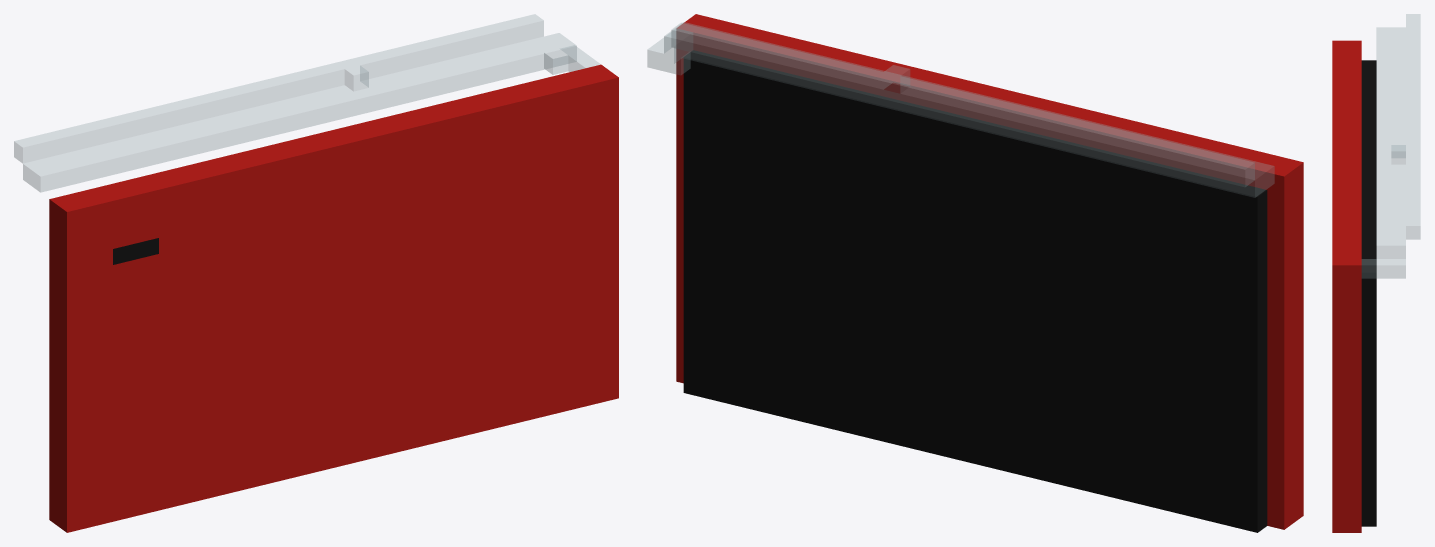
Rendered from convertible_front_door.glb.
The picture shows the model from 3 angles, left to right: view 1: azimuth 30°, elevation 25°; view 2: azimuth 150°, elevation 25°; view 3: azimuth 270°, elevation 25°; orthographic projection. The views are drawn at different scales.
Parts seen in each view (by area): view 1: body:compound; view 2: body:compound; view 3: body:compound.
Part boxes in pixels (box(x1,y1,x2,y2)): body:compound: box(14, 14, 618, 532); body:compound: box(647, 14, 1303, 532); body:compound: box(1332, 14, 1420, 532).
Bounding box in the file's own units: 1.12 × 0.6875 × 0.1875.
